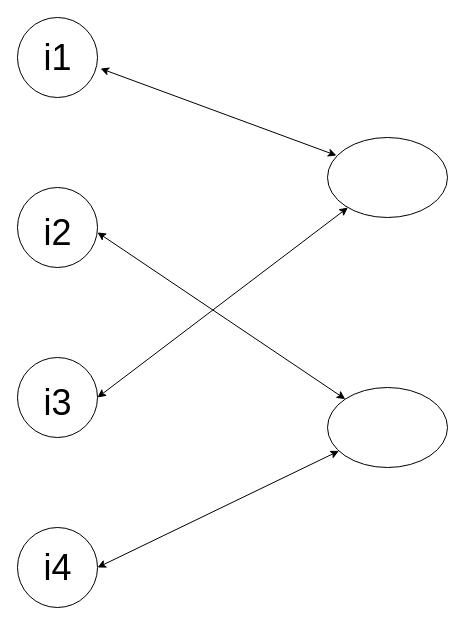
Some shapes in this 465 by 625 pixel diagram are drawn without their labels. The box of each missing label's shape, as (x1, y1, x2, y2) in pixels:
s1: (326, 136, 448, 218)
s2: (326, 386, 448, 468)
